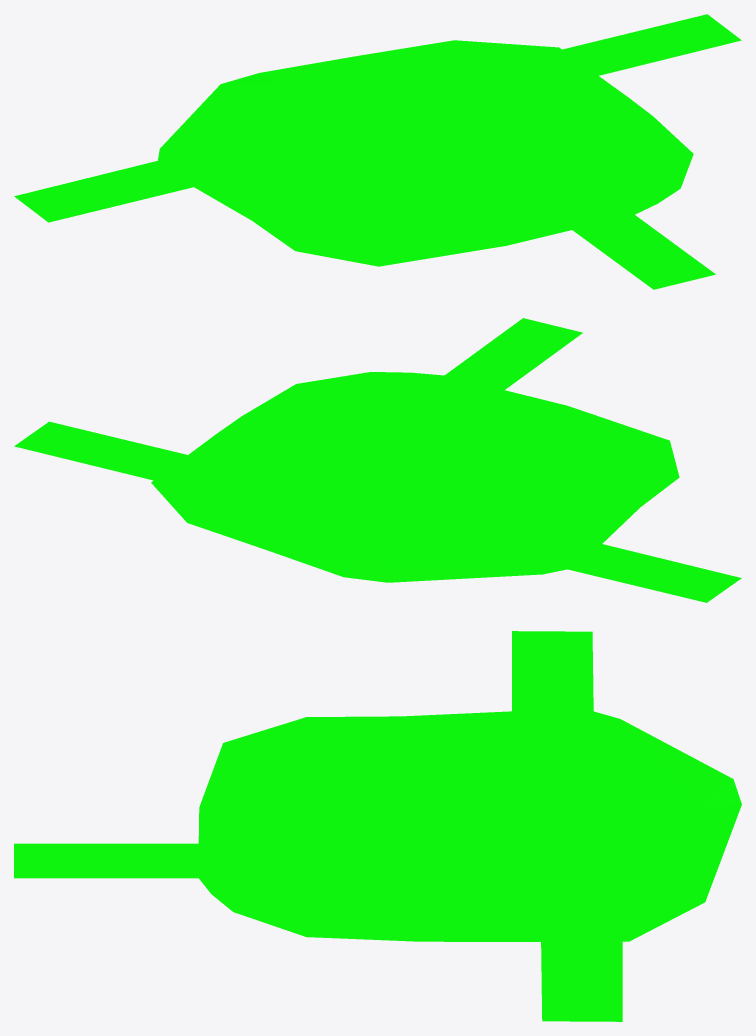
File: s02a_td1-floor.glb
3 views of the same model, one above another, from view 1: azimuth 30°, elevation 25°; view 2: azimuth 150°, elevation 25°; view 3: azimuth 270°, elevation 25° (orthographic). The views are drawn at different scales.
Parts seen in each view (by area): view 1: collision_floor-colonly; view 2: collision_floor-colonly; view 3: collision_floor-colonly.
Part boxes in pixels (x1=…): collision_floor-colonly: x1=14, y1=14, x2=741, y2=289; collision_floor-colonly: x1=14, y1=318, x2=741, y2=602; collision_floor-colonly: x1=14, y1=631, x2=741, y2=1021.
Bounding box in the file's own units: 67.89 × 0.168 × 53.45.
